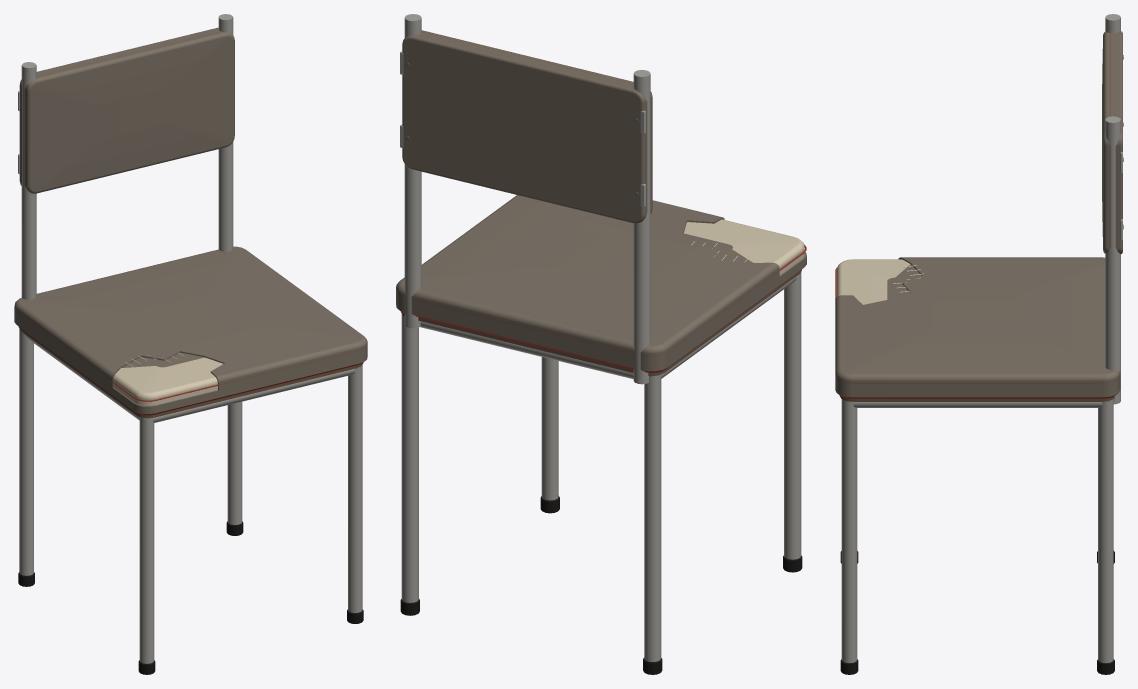
File: kitchen-chair-40106bbd1c21.glb
The picture shows the model from 3 angles, left to right: view 1: azimuth 30°, elevation 25°; view 2: azimuth 150°, elevation 25°; view 3: azimuth 270°, elevation 25°; orthographic projection. The views are drawn at different scales.
Parts seen in each view (by area): view 1: cover-print, brushed, paper, wood, rubber-foot, cover-cloth; view 2: cover-print, brushed, paper, wood, rubber-foot, cover-cloth; view 3: cover-print, brushed, paper, wood, cover-cloth, enamel-red, rubber-foot, accent-warm.
Part boxes in pixels (x1,y1,x2,y2): cover-print: (14,27,367,413); brushed: (18,14,362,663); paper: (113,352,223,405); wood: (18,327,363,418); rubber-foot: (18,521,363,674); cover-cloth: (122,352,204,367); cover-print: (396,30,806,371); brushed: (400,14,801,661); paper: (684,219,804,275); wood: (401,270,801,376); rubber-foot: (400,496,802,674); cover-cloth: (683,233,752,262); cover-print: (835,31,1122,397); brushed: (841,14,1122,663); paper: (836,259,923,304); wood: (839,395,1114,401); cover-cloth: (887,264,921,299); enamel-red: (837,393,1116,398); rubber-foot: (840,550,1114,674); accent-warm: (835,33,1116,383).
Bounding box in the file's own units: 0.4002 × 0.85 × 0.4051.
